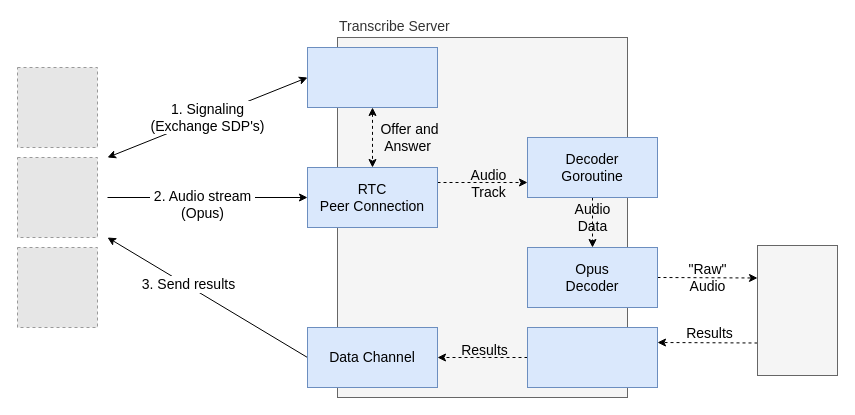
The diagram is 855 pixels wide and 415 high, and some of its shapes have lost their labels. Grey dashed boxes stand in for pictures. The shapes that lost their labels are listed below. From the top down, each one's box as (x1, y1, x2, y2) in pixels, then its label:
(306, 46, 438, 108): POST /session
(756, 244, 838, 376): Google Speech
(526, 326, 658, 388): Result Goroutine
